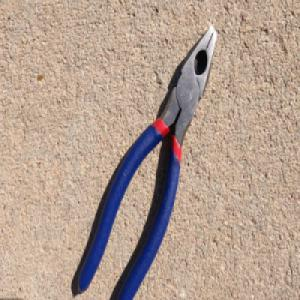Pliers: (76, 23, 217, 300)
